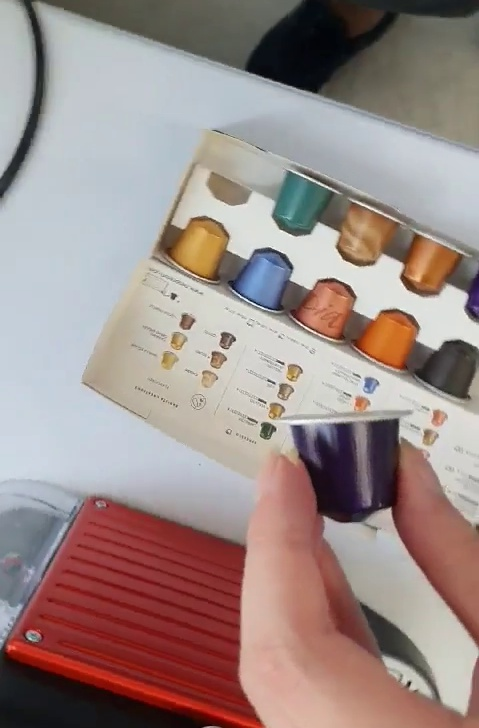capsule_2: (274, 408, 422, 526)
